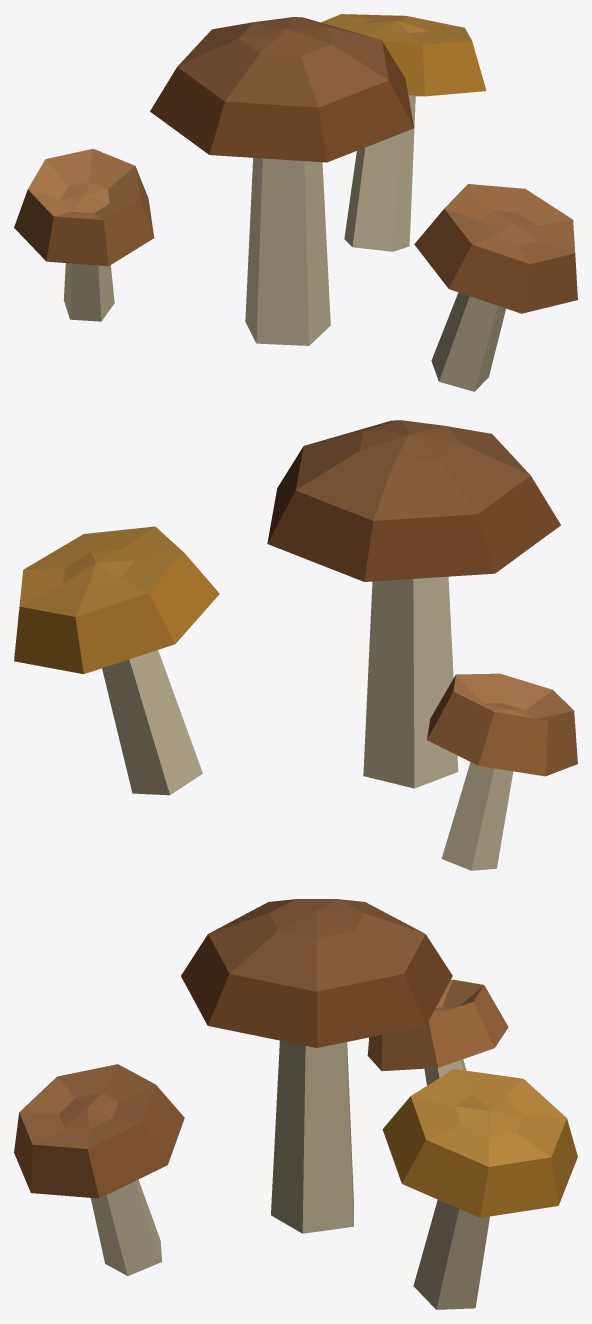
File: mushroom_cluster.glb
The picture shows the model from 3 angles, top to bottom: view 1: azimuth 30°, elevation 25°; view 2: azimuth 150°, elevation 25°; view 3: azimuth 270°, elevation 25°; orthographic projection. The views are drawn at different scales.
Parts seen in each view (by area): view 1: mushroom_cluster; view 2: mushroom_cluster; view 3: mushroom_cluster.
Part boxes in pixels (x1,y1,x2,y2): mushroom_cluster: (14, 14, 577, 391); mushroom_cluster: (14, 420, 577, 870); mushroom_cluster: (14, 899, 577, 1309).
Bounding box in the file's own units: 0.3355 × 0.2105 × 0.3435.
